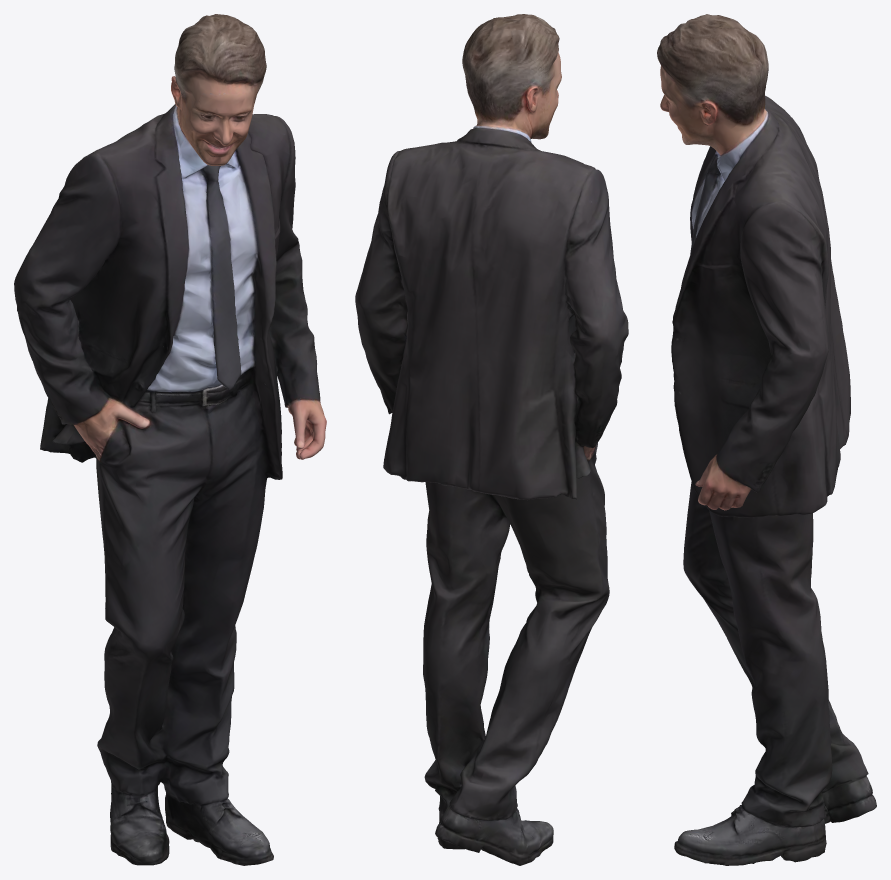
Rendered from pedestrian-man-suit.glb.
The picture shows the model from 3 angles, left to right: view 1: azimuth 30°, elevation 25°; view 2: azimuth 150°, elevation 25°; view 3: azimuth 270°, elevation 25°; orthographic projection. The views are drawn at different scales.
Parts seen in each view (by area): view 1: rp_dennis_posed_004_100k_rp_dennis_posed_004_100k_mat_0; view 2: rp_dennis_posed_004_100k_rp_dennis_posed_004_100k_mat_0; view 3: rp_dennis_posed_004_100k_rp_dennis_posed_004_100k_mat_0.
Boxes of the visible parts, bbox=[...] form: rp_dennis_posed_004_100k_rp_dennis_posed_004_100k_mat_0: bbox=[14, 14, 326, 865]; rp_dennis_posed_004_100k_rp_dennis_posed_004_100k_mat_0: bbox=[355, 14, 628, 865]; rp_dennis_posed_004_100k_rp_dennis_posed_004_100k_mat_0: bbox=[657, 14, 876, 865].
Bounding box in the file's own units: 64.17 × 187 × 44.97.
Materials: 1 (1 with a texture image).
